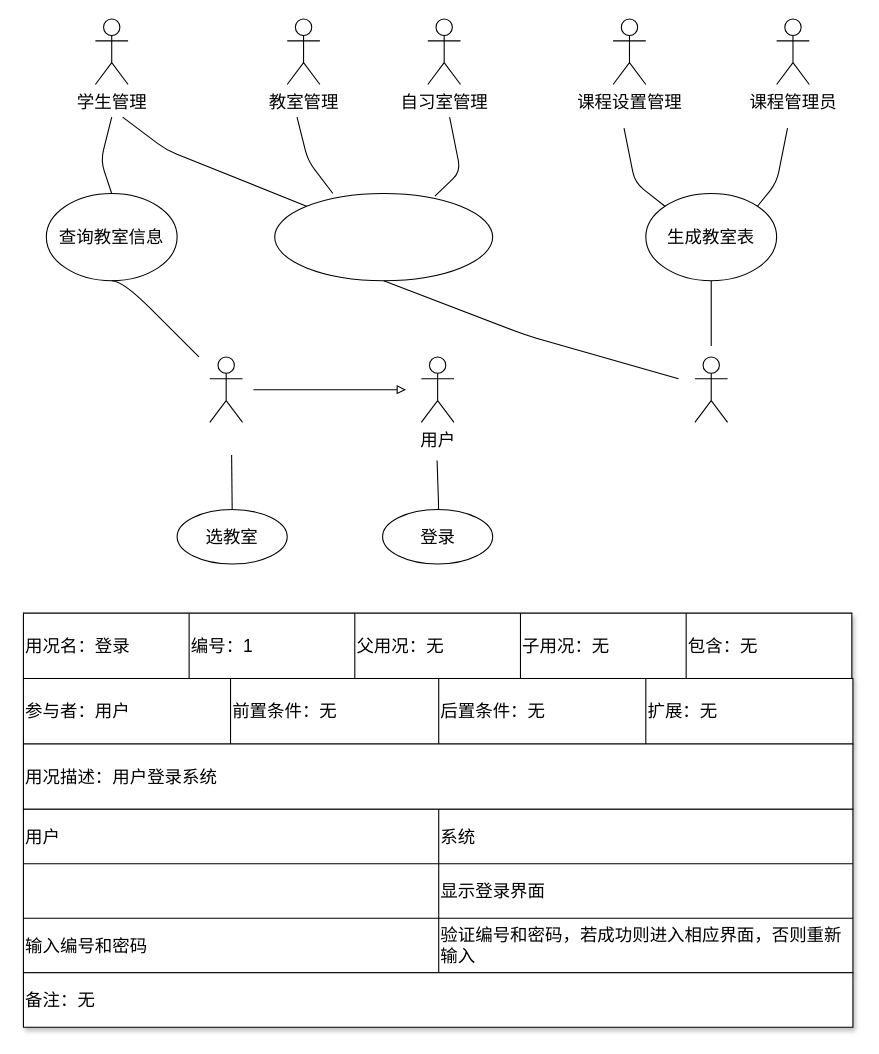
Some shapes in this 879 by 1054 pixel diagram are drawn without their labels. The shapes that lost their labels are listed below. From the top down, each one's centre as x and y in pixels, then its label:
At pixel 383 236: "生成及公布教室汇总表".
At pixel 226 389: "教师".
At pixel 711 389: "教室分配部门".
